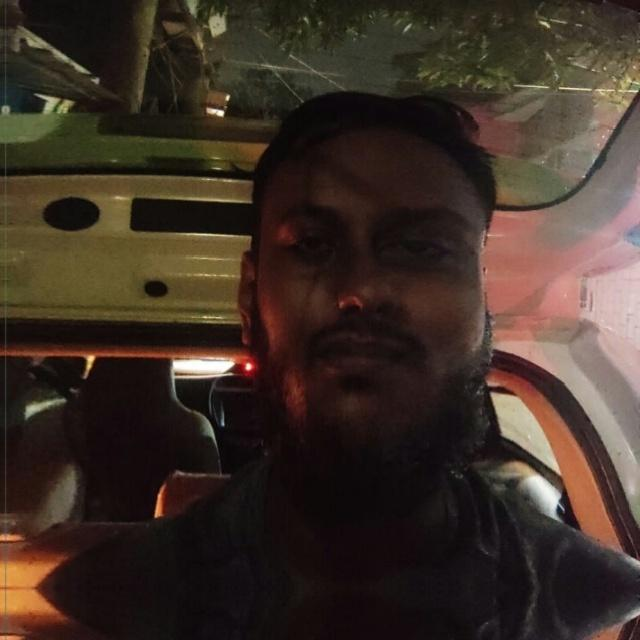Natural: (175, 83, 574, 542)
